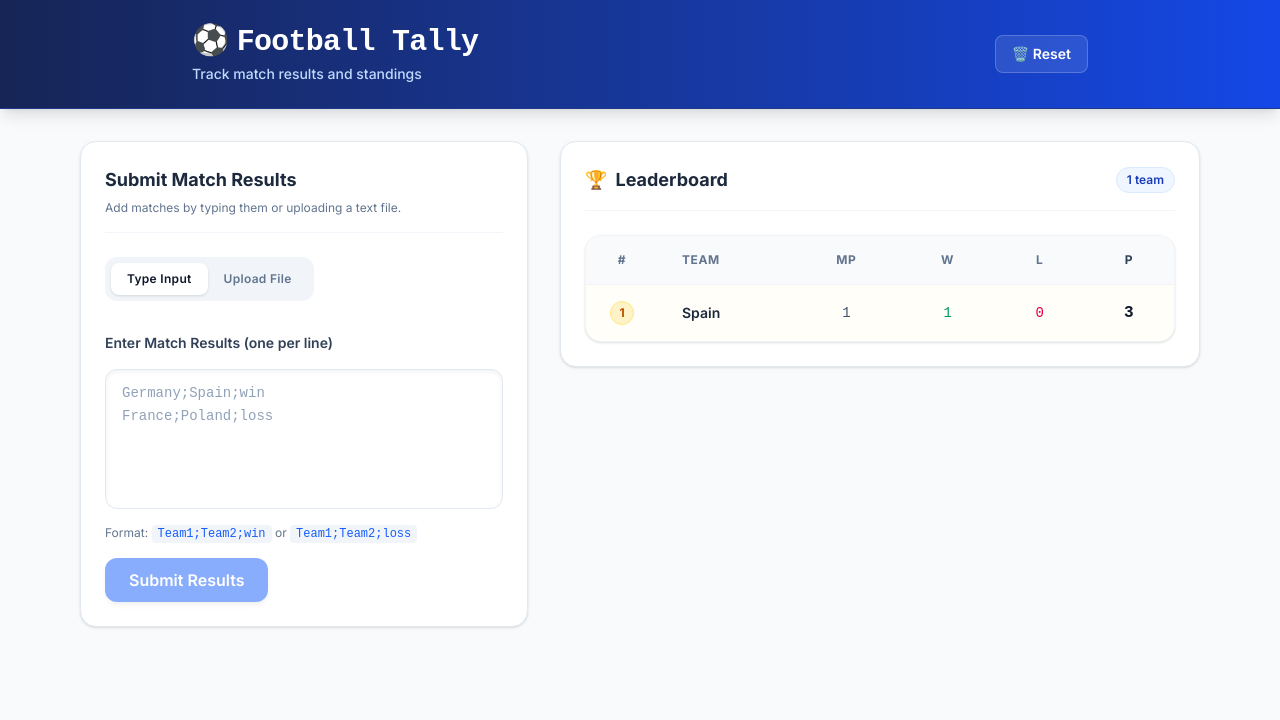
Scenario: Home Page Component › shows error toast when submitString fails
Expected: the text "Spain" is shown, [658,284,793,341]
Type "invalid line" into the text box at (304, 439), box [105,369,503,509]
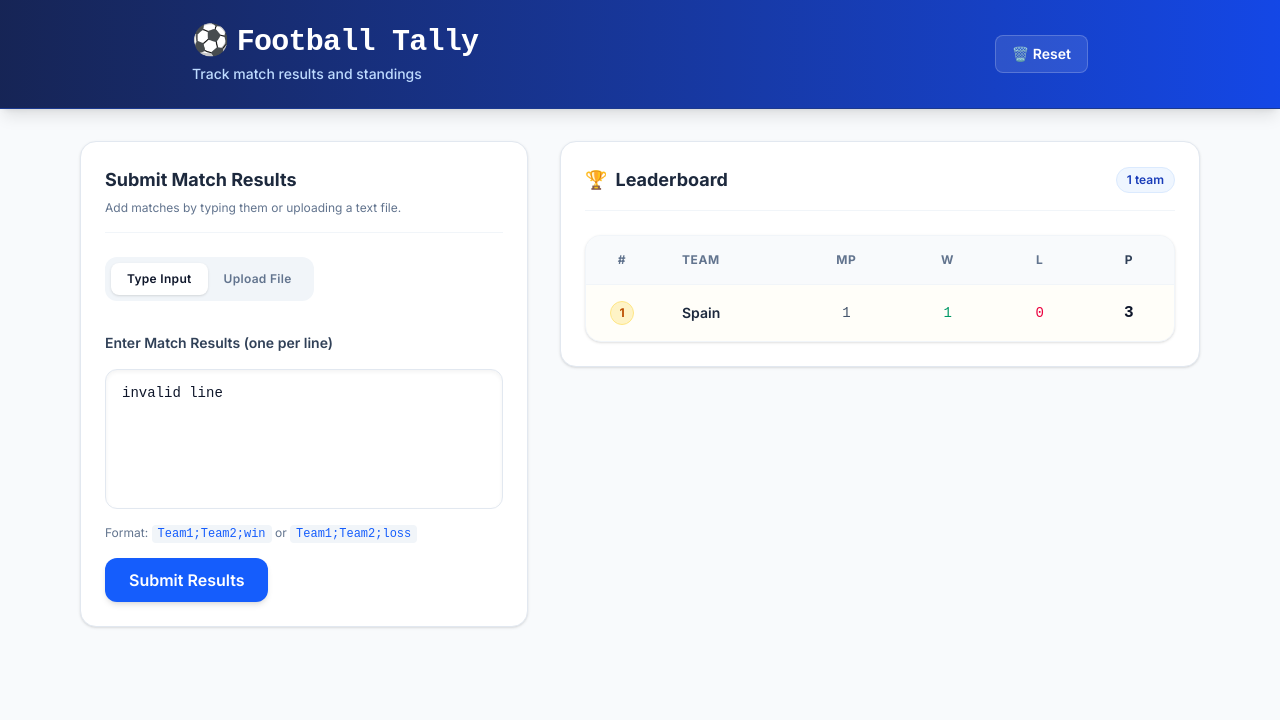
Click the button "Submit Results" at (187, 580), box [105,558,268,602]
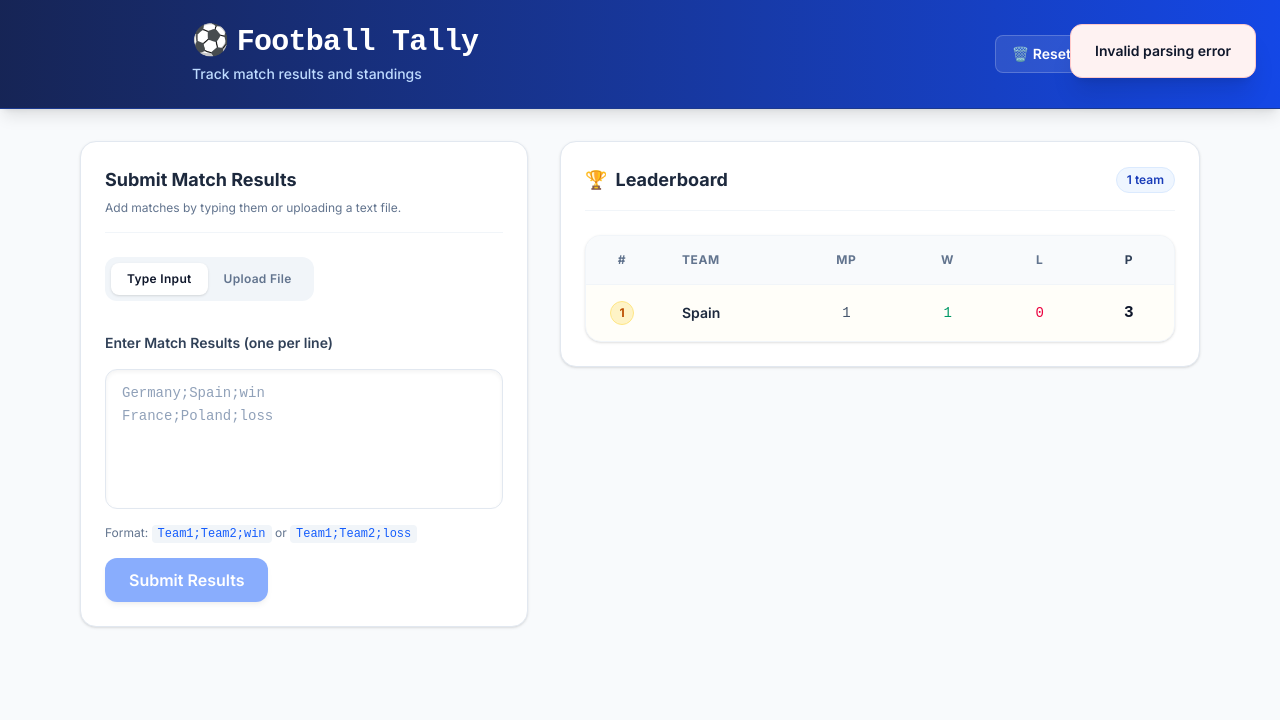
Result: the text "Invalid parsing error" is shown at [1070,24,1256,78]
